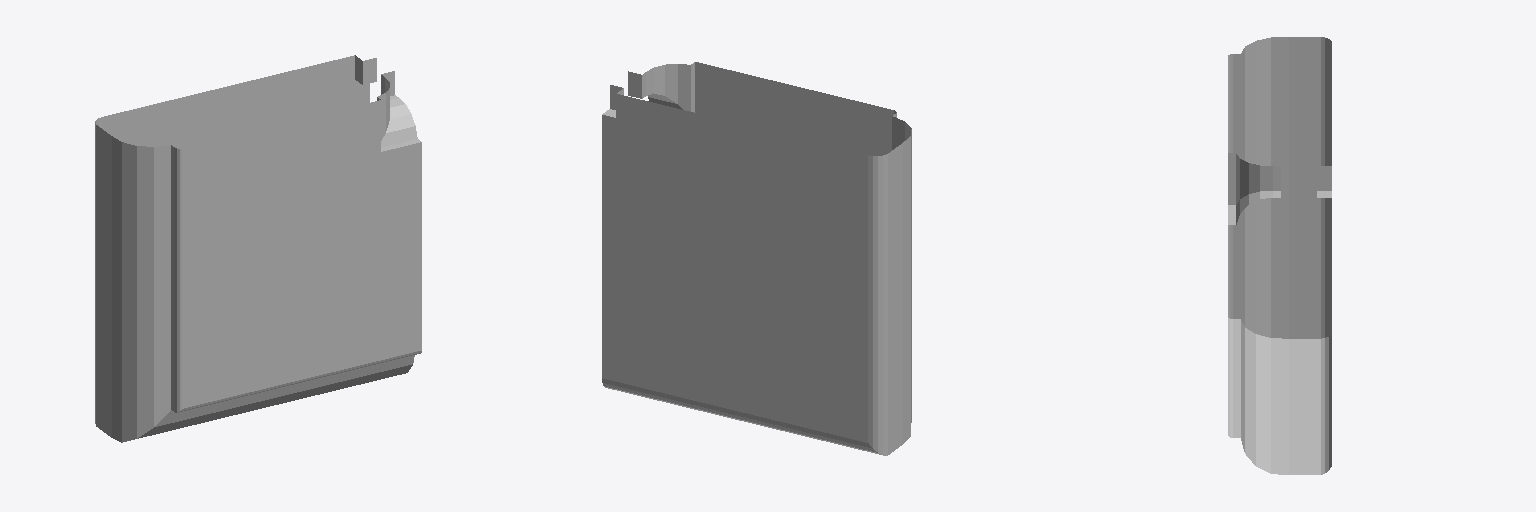
The model's file is original-49.obj.
3 views of the same model, side by side, from view 1: azimuth 30°, elevation 25°; view 2: azimuth 150°, elevation 25°; view 3: azimuth 270°, elevation 25° (orthographic).
Visible parts, largest first — view 1: LT_11_BL1/LT_11_BL/mesh36/mesh36-geometry#mesh36-geometry; view 2: LT_11_BL1/LT_11_BL/mesh36/mesh36-geometry#mesh36-geometry; view 3: LT_11_BL1/LT_11_BL/mesh36/mesh36-geometry#mesh36-geometry.
Boxes of the visible parts, x1=… form: LT_11_BL1/LT_11_BL/mesh36/mesh36-geometry#mesh36-geometry: x1=95, y1=55, x2=421, y2=442; LT_11_BL1/LT_11_BL/mesh36/mesh36-geometry#mesh36-geometry: x1=602, y1=62, x2=911, y2=455; LT_11_BL1/LT_11_BL/mesh36/mesh36-geometry#mesh36-geometry: x1=1228, y1=37, x2=1331, y2=474.
Bounding box in the file's own units: 0.1004 × 0.1036 × 0.0327.